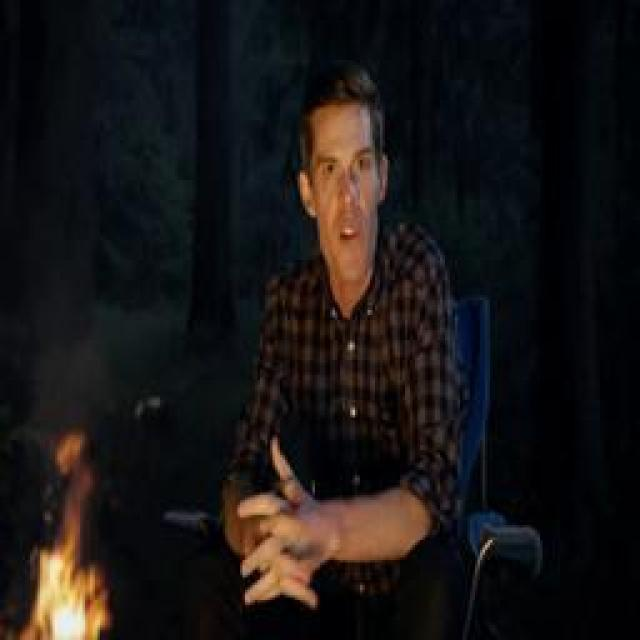Fire: (19, 437, 109, 640)
